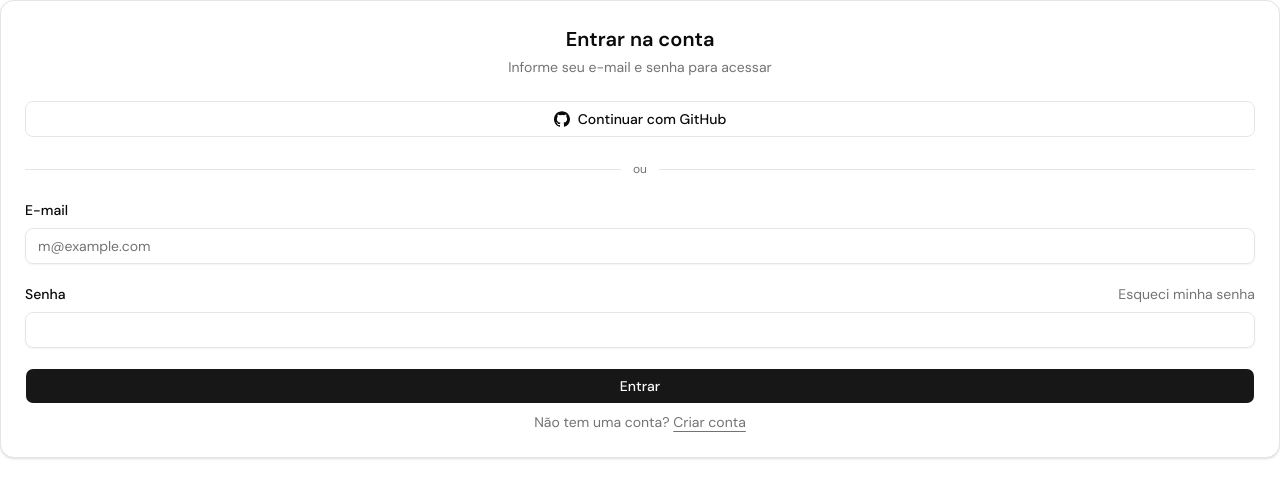
Test: LoginForm › validação client-side (Zod) › rejeita e-mail em formato inválido
This screenshot has width=1280, height=504.
In the field labelled "E-mail": x=640, y=246 [25,228,1255,264], type "nao-e-um-email"
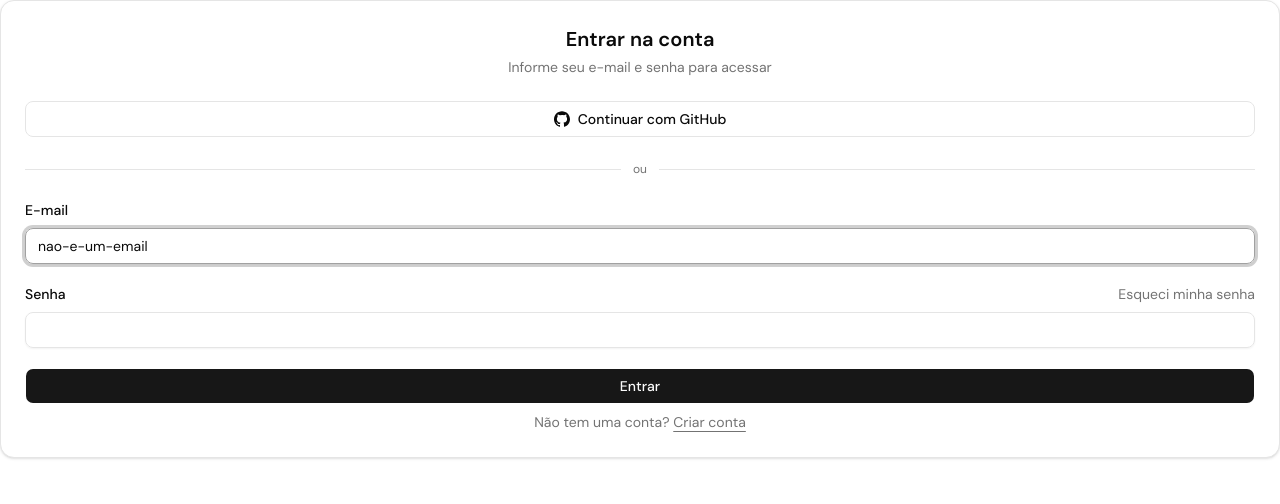
In the password field labelled "Senha": x=640, y=330 [25,312,1255,348], type "qualquer-senha"
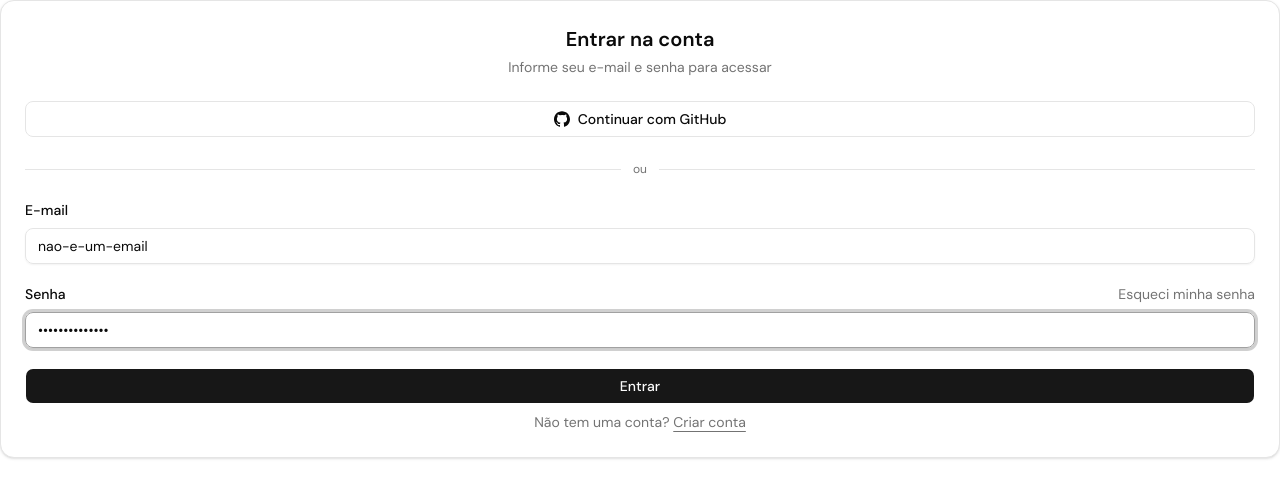
Click the button "Entrar": x=640, y=386 [25,368,1255,404]
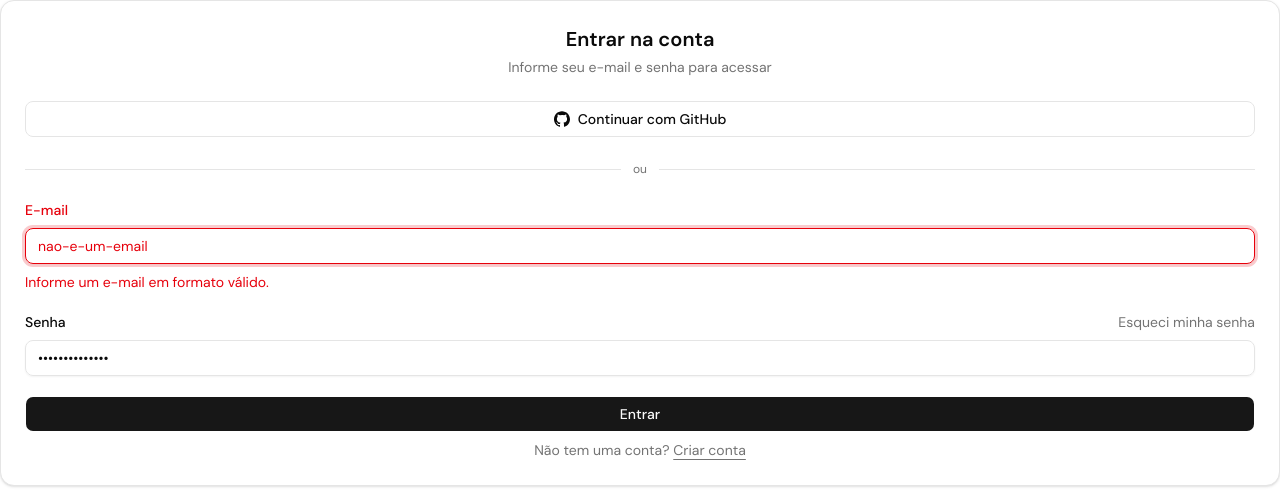
Result: the text "Informe um e-mail em formato válido." is shown at [25,273,269,291]
